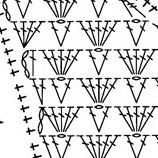chain: (131, 18, 141, 24), (132, 133, 141, 138)
enseble_chain: (14, 15, 51, 53), (54, 102, 90, 139), (92, 16, 128, 53), (55, 46, 89, 82), (129, 44, 158, 82), (74, 73, 104, 109), (49, 18, 81, 51), (129, 102, 158, 138), (95, 75, 125, 109), (114, 101, 142, 137), (75, 15, 103, 50), (36, 104, 64, 138), (91, 131, 124, 158), (37, 126, 64, 158), (91, 105, 118, 137), (53, 77, 80, 108), (75, 130, 104, 158), (41, 46, 65, 78), (92, 48, 117, 78), (130, 77, 155, 107), (130, 19, 154, 50), (119, 14, 141, 45), (121, 74, 143, 105), (56, 133, 80, 158), (21, 50, 40, 80), (32, 77, 51, 106), (48, 0, 66, 20)
fan: (76, 73, 103, 107), (75, 131, 102, 158), (85, 49, 104, 78), (121, 47, 139, 77), (121, 133, 142, 158), (129, 105, 146, 132)
